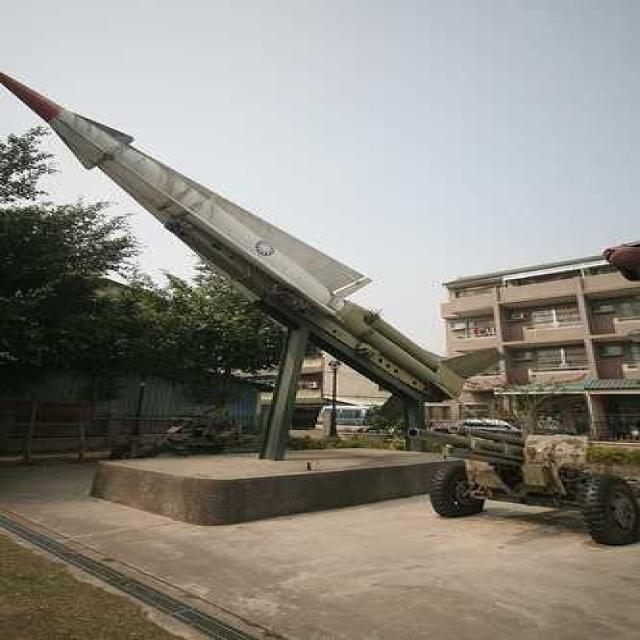missile: (2, 68, 499, 417)
